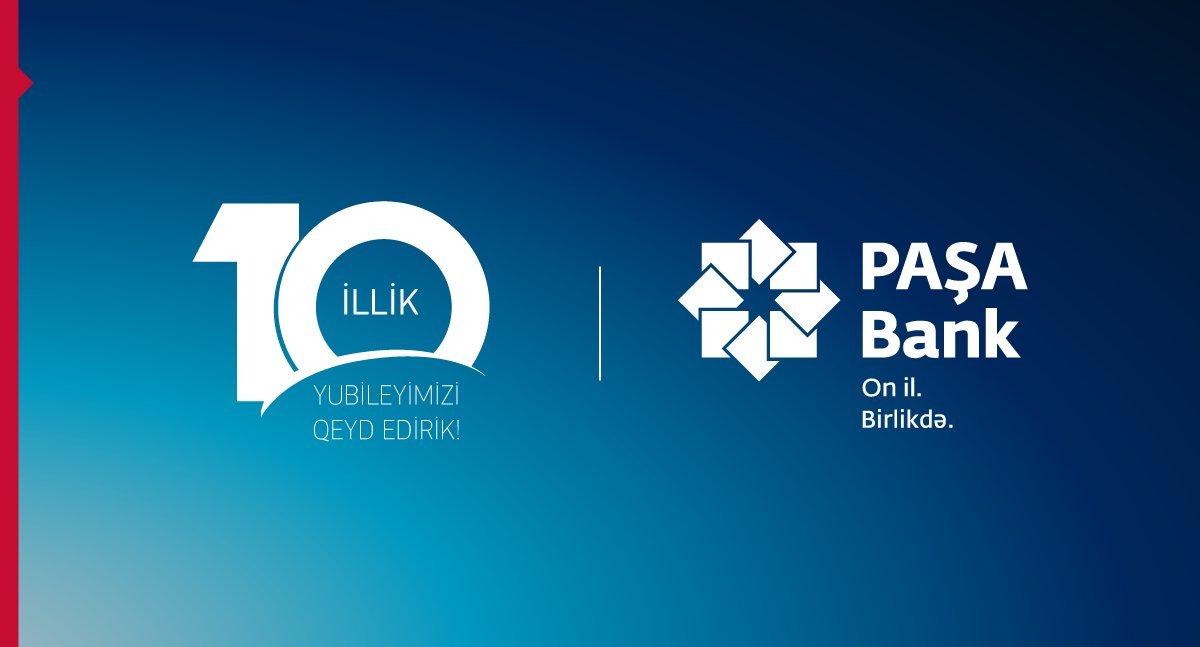Pasha Bank: (673, 211, 844, 384)
